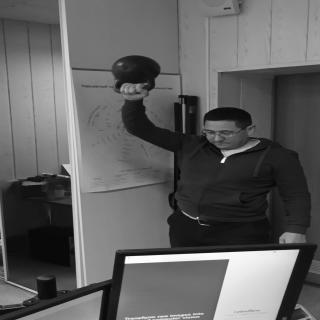girya: (113, 57, 167, 94)
